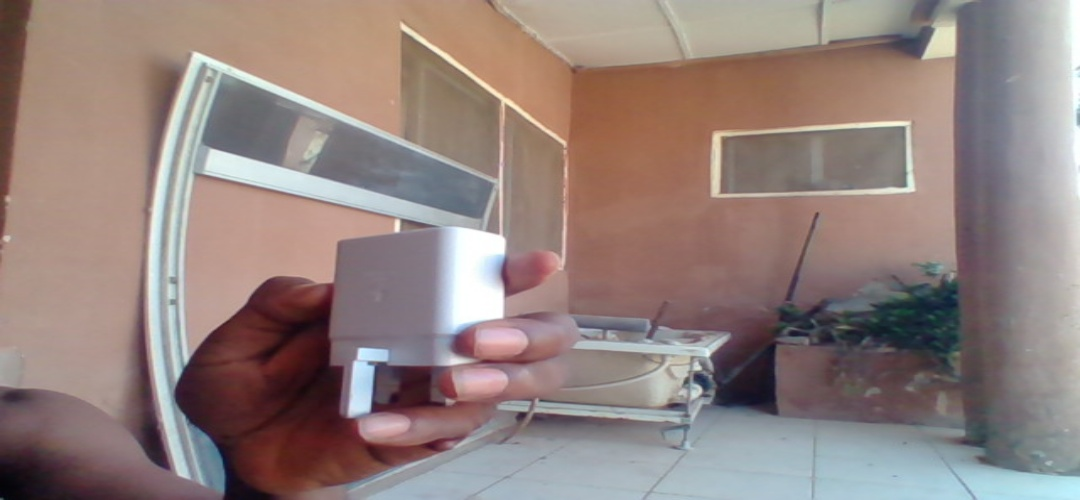phone_charger: (310, 233, 519, 413)
